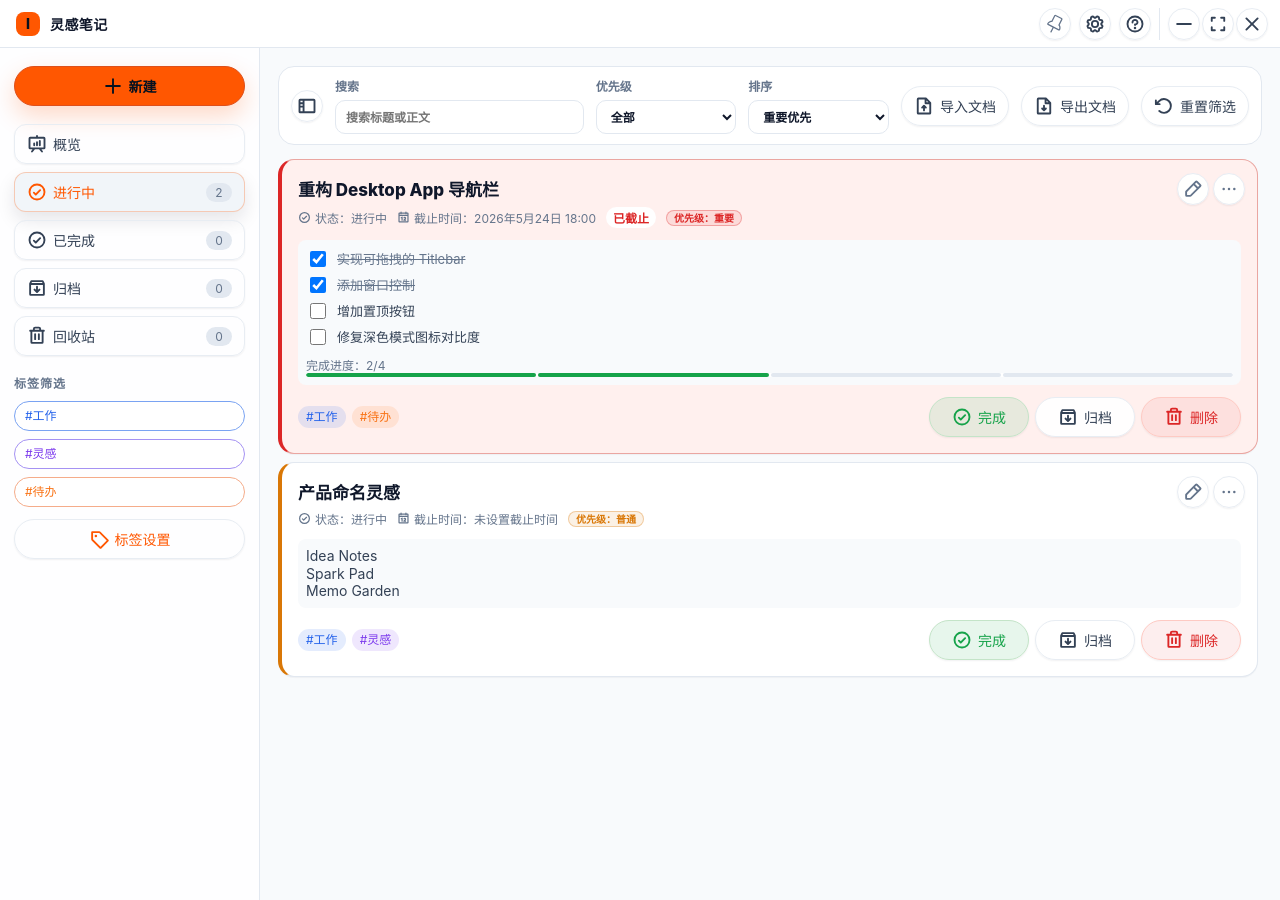
Test: App tags failure › 标签删除保存失败时清理旧输入错误并只显示保存失败
Click the button "标签设置".
click(130, 539)  # box x1=14 y1=519 x2=245 y2=559
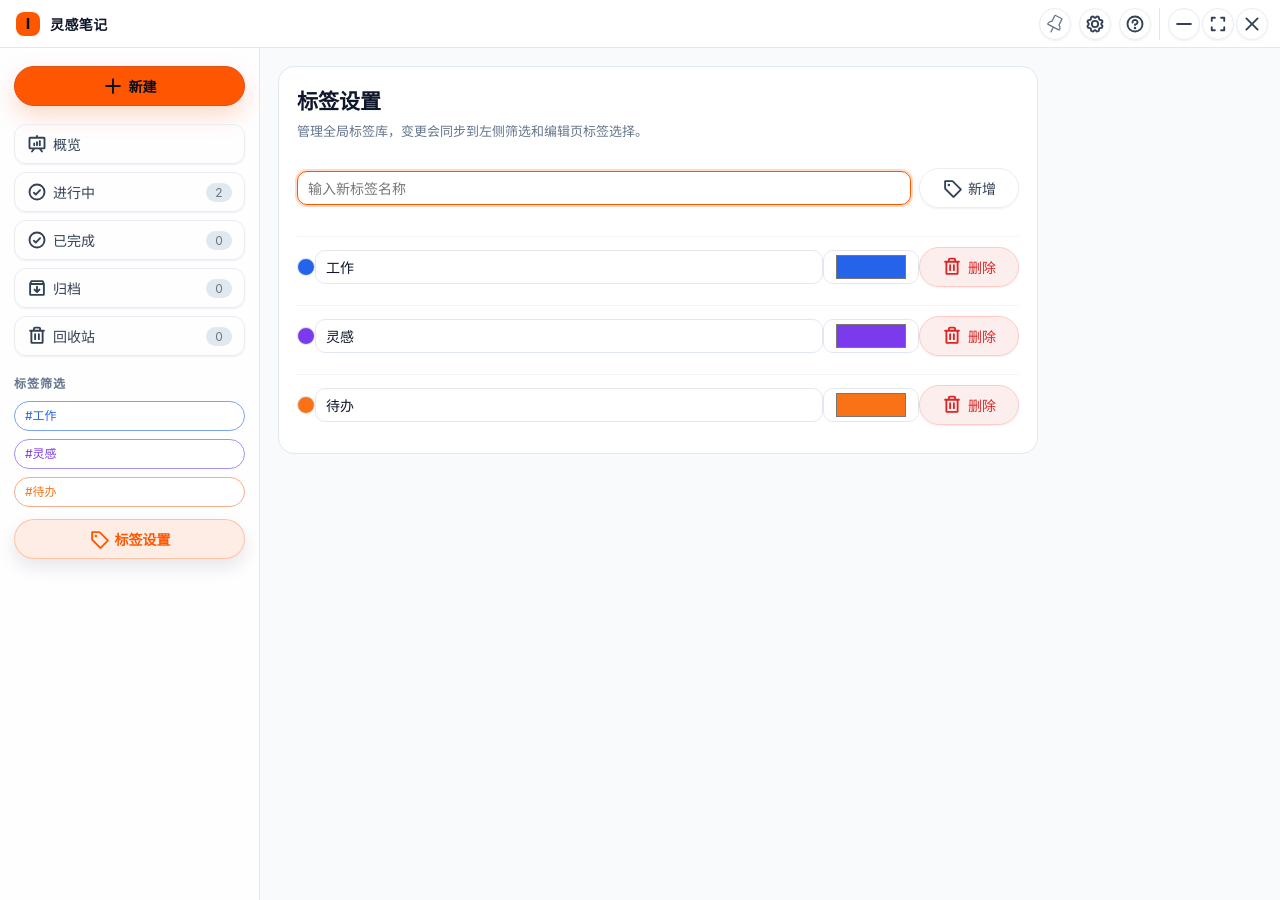
Type "工作" into the field with placeholder "输入新标签名称".
click(604, 188); type("工作")  # box x1=297 y1=171 x2=911 y2=205
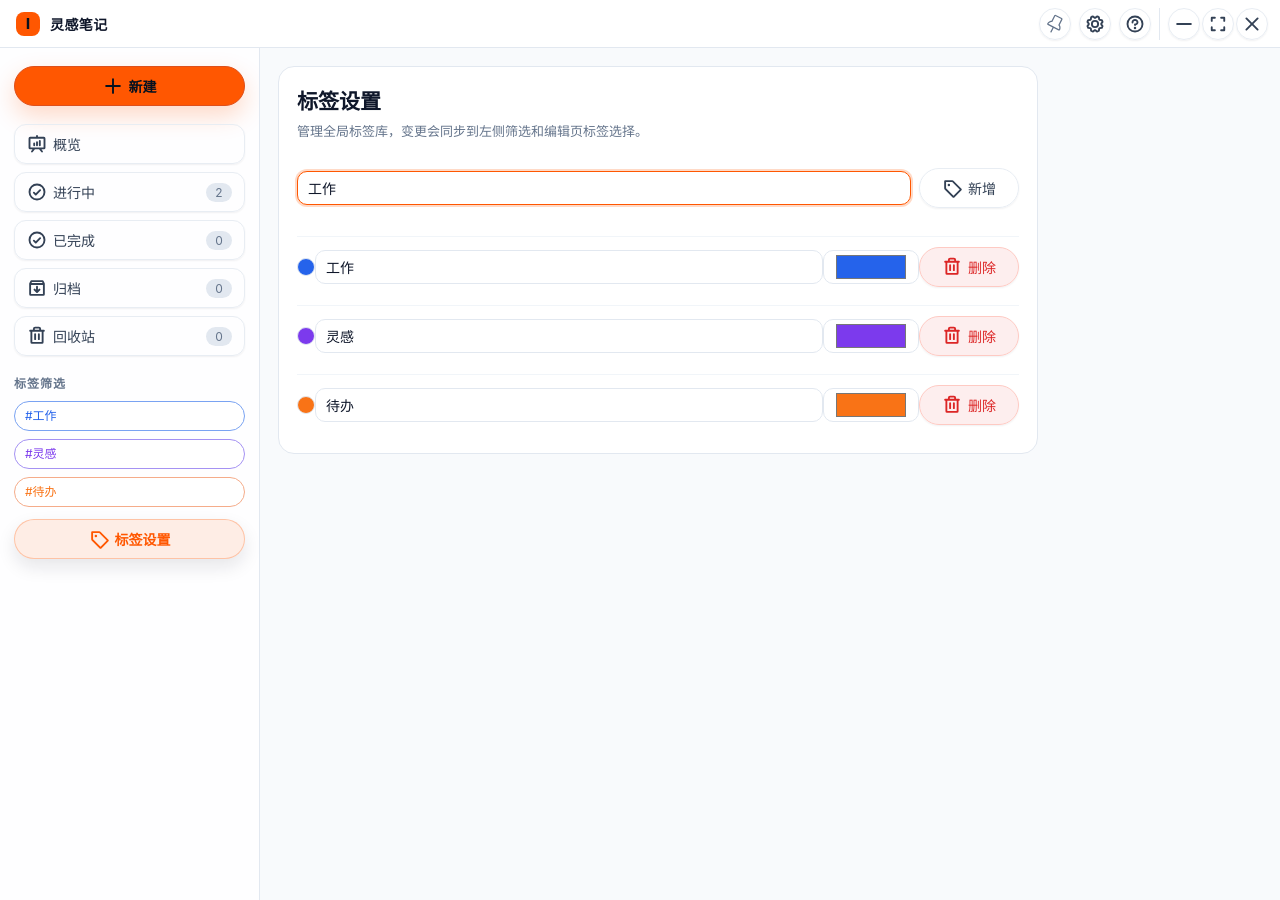
Click the button "新增".
click(969, 188)  # box x1=919 y1=168 x2=1019 y2=208
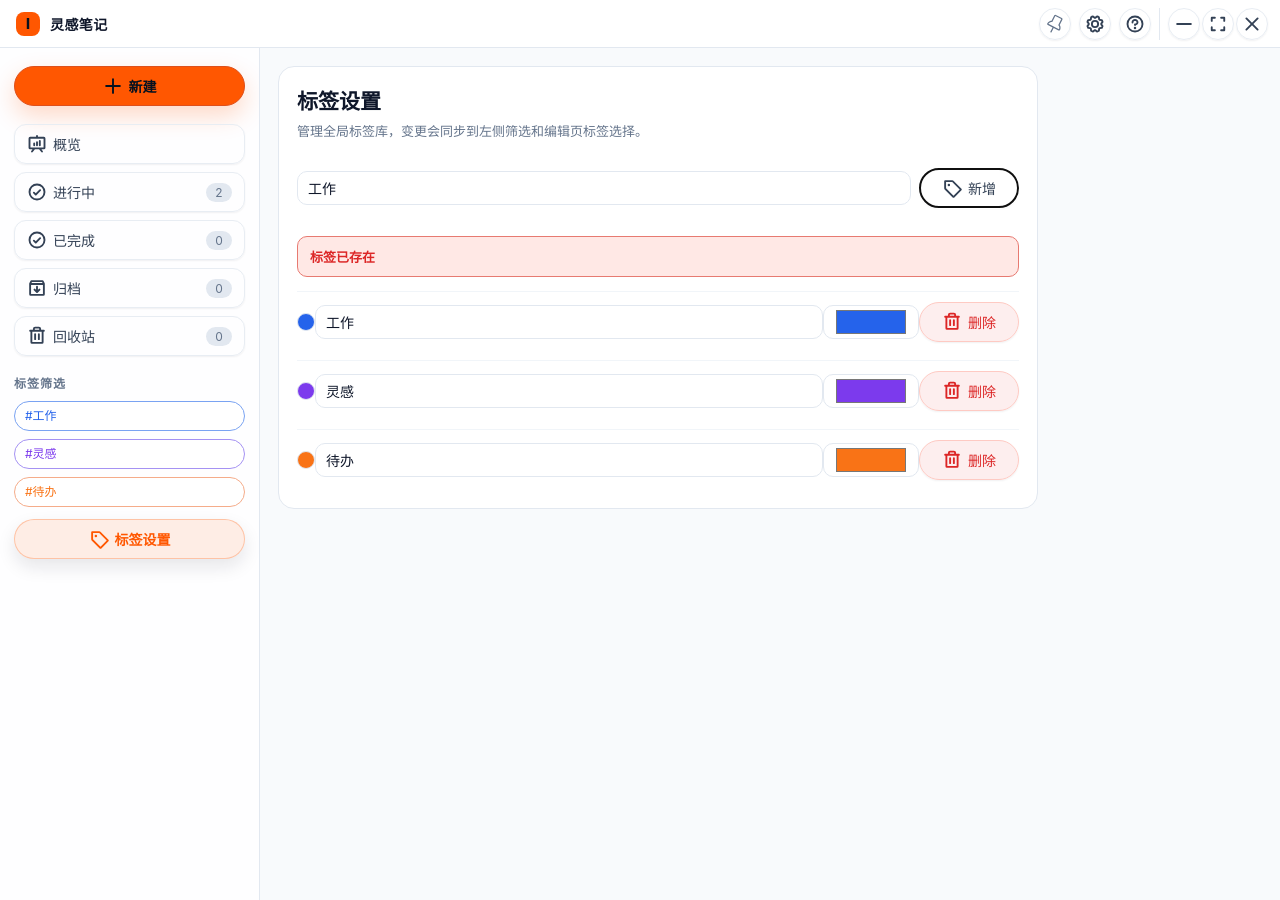
Expected: the message reads "标签已存在", x1=310 y1=249 x2=375 y2=265
Click the button with aria-label "删除 工作".
click(969, 322)  # box x1=919 y1=302 x2=1019 y2=342
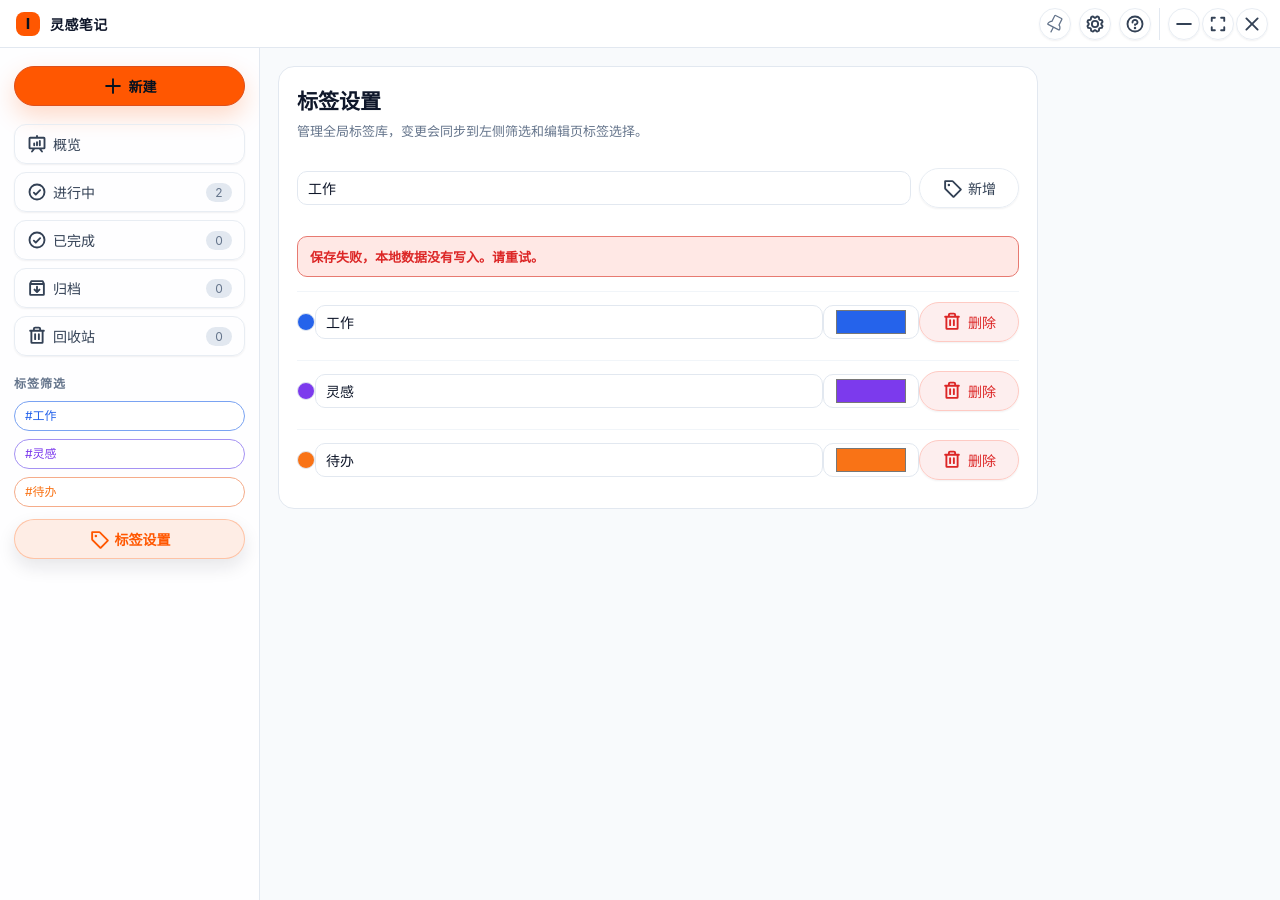
Expected: the number of messages is 1, x1=297 y1=236 x2=1019 y2=277
Expected: the message reads "保存失败，本地数据没有写入。请重试。", x1=310 y1=249 x2=544 y2=265
